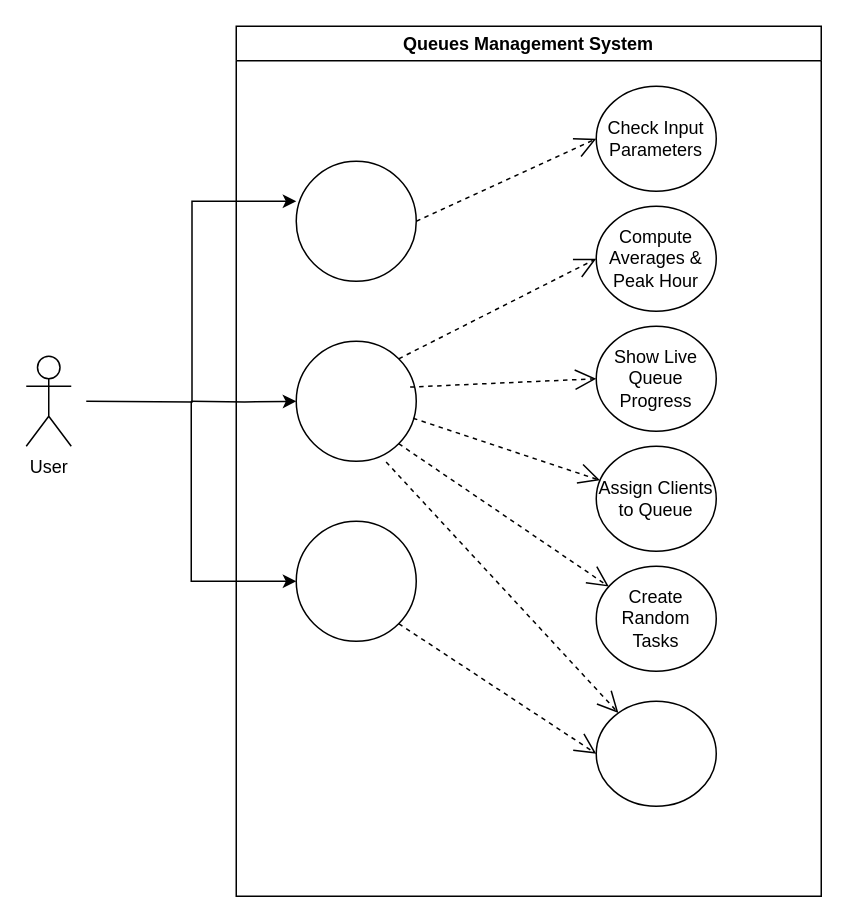
Some shapes in this 848 by 923 pixel diagram are drawn without their labels. Each missing label, with the centre of its shape:
"Save Log to Text File" goes at [655,753].
"Setup Simulation" goes at [355,220].
"Start Simulation" goes at [355,400].
"Stop Simulation" goes at [355,580].
